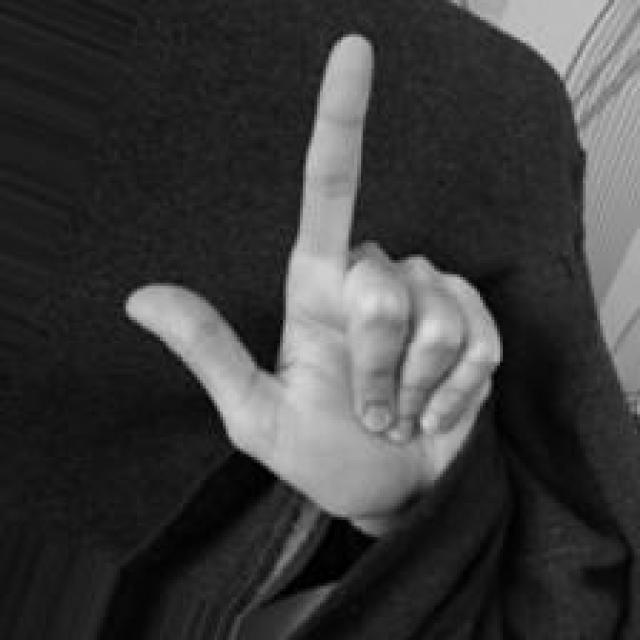L: (121, 23, 506, 530)
